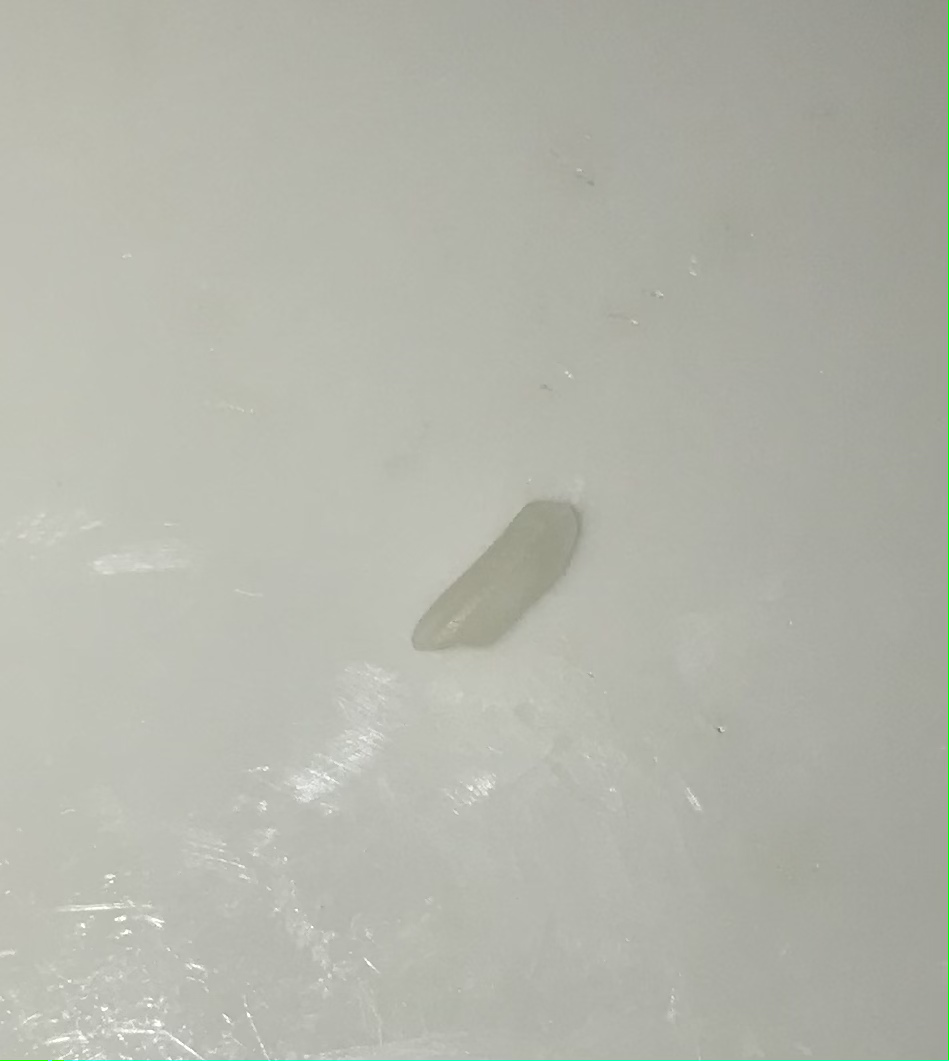Gao Lai Sua: (410, 491, 597, 661)
